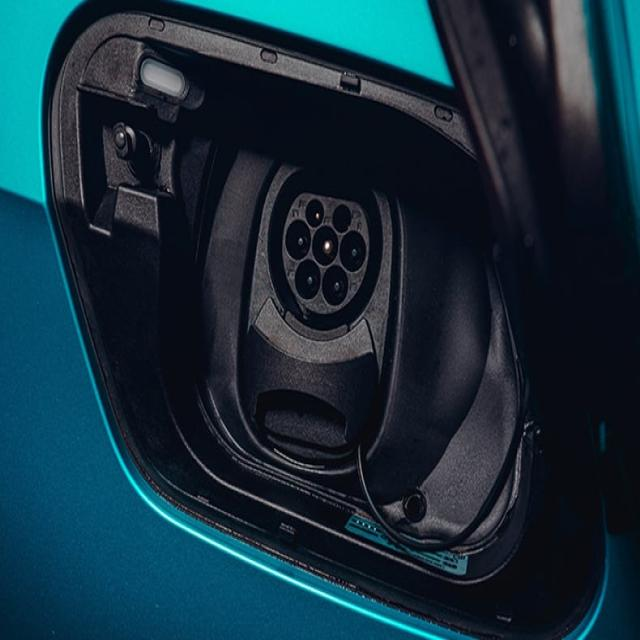Type 2: (269, 168, 390, 350)
